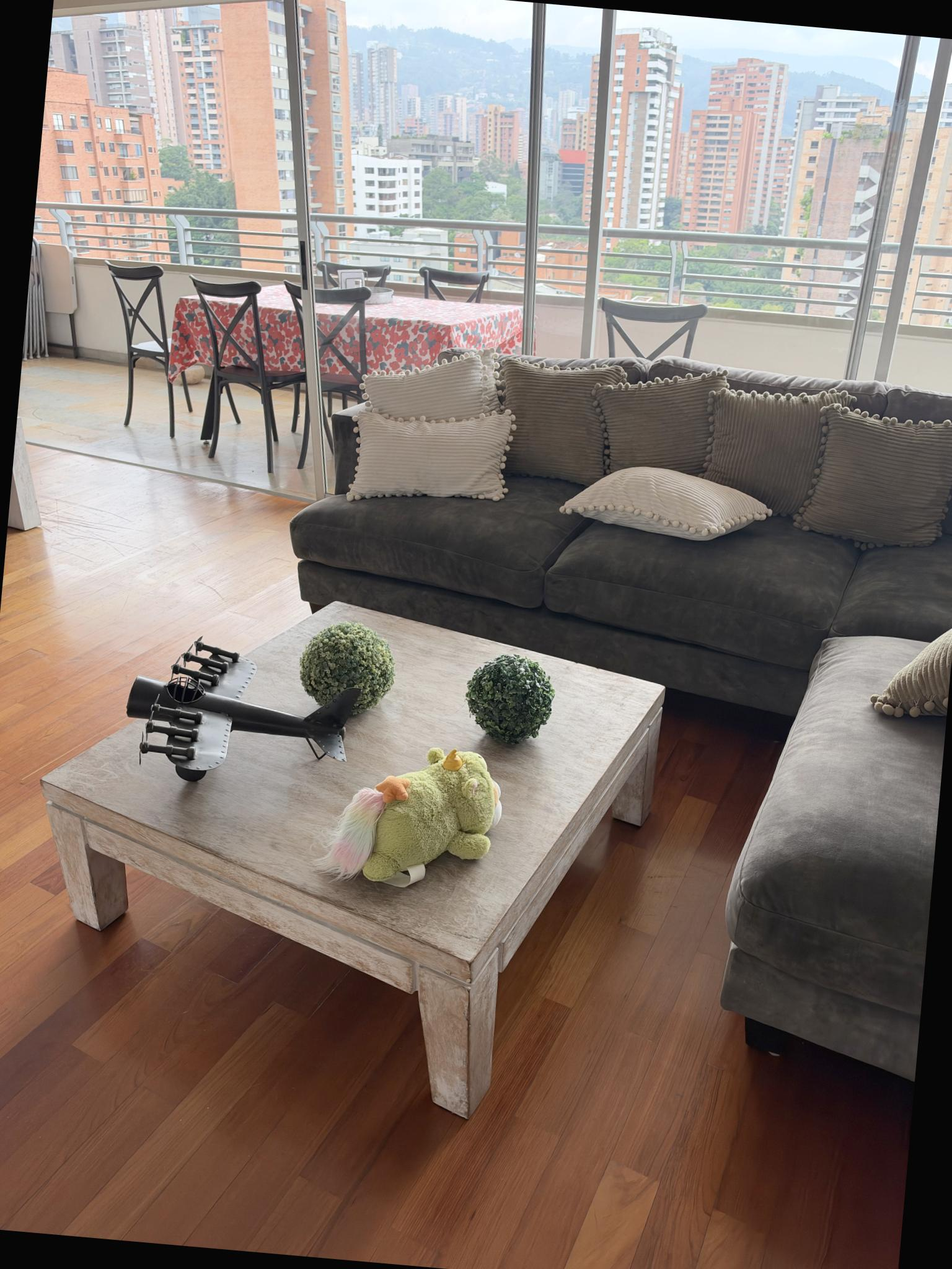peluche_martin: (309, 735, 508, 900)
